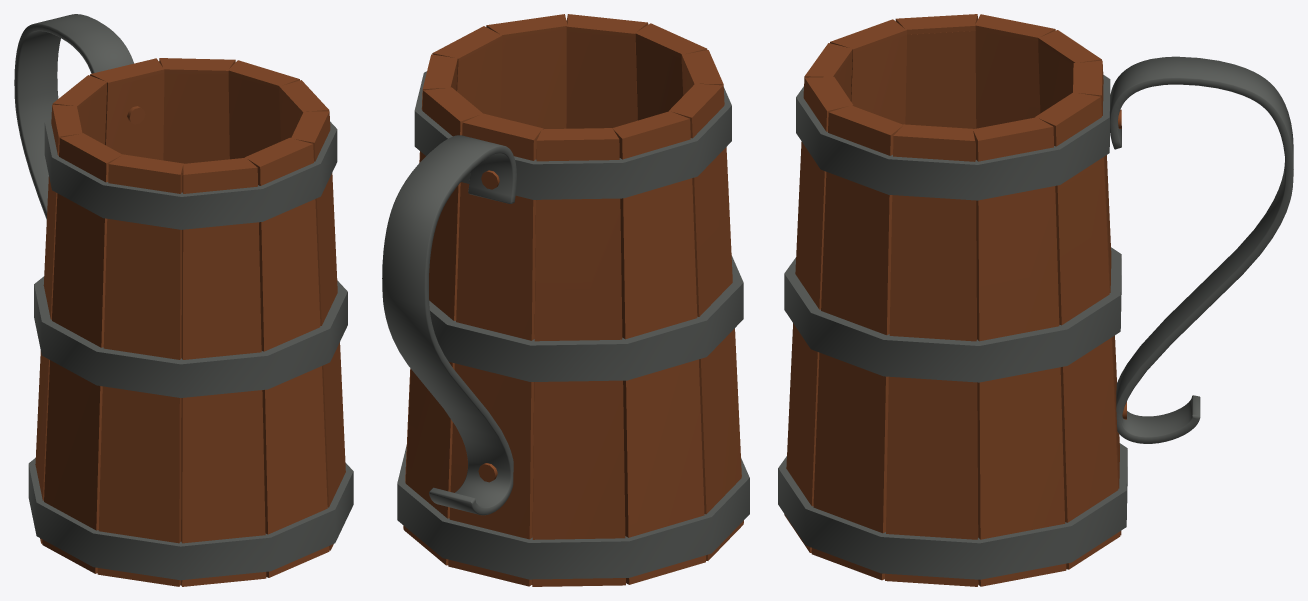
The model's file is winGoalMedieval.fbx.
3 views of the same model, side by side, from view 1: azimuth 30°, elevation 25°; view 2: azimuth 150°, elevation 25°; view 3: azimuth 270°, elevation 25° (orthographic). The views are drawn at different scales.
Visible parts, largest first — view 1: Medieval_Beer_Mug.001; view 2: Medieval_Beer_Mug.001; view 3: Medieval_Beer_Mug.001.
Part boxes in pixels (x1,y1,x2,y2): Medieval_Beer_Mug.001: (14, 14, 353, 586); Medieval_Beer_Mug.001: (382, 14, 749, 586); Medieval_Beer_Mug.001: (778, 14, 1293, 586).
Size of the model in its own units: 4.72 by 6.62 by 6.9.
